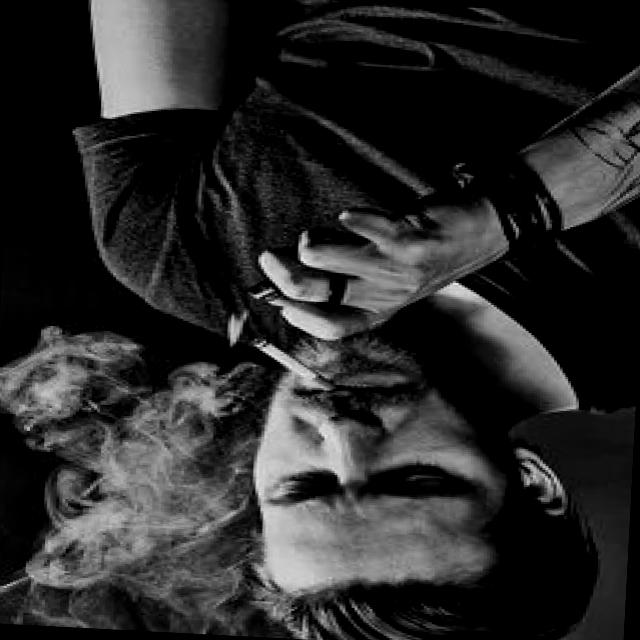smoke: (243, 328, 348, 396)
